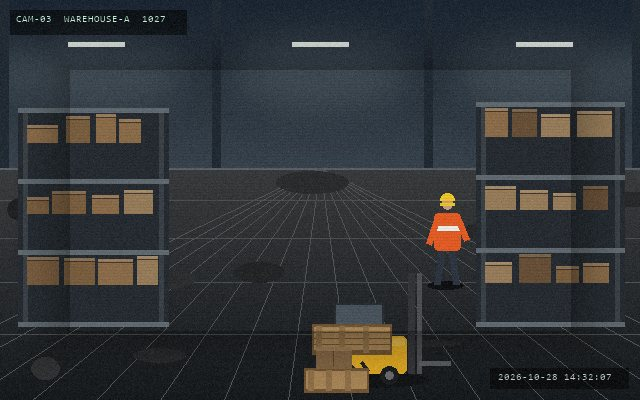forklift: (312, 271, 453, 387)
pallet: (310, 322, 393, 356), (302, 366, 370, 394)
person: (426, 191, 468, 288)
shelf: (476, 102, 624, 322), (18, 108, 168, 322)
